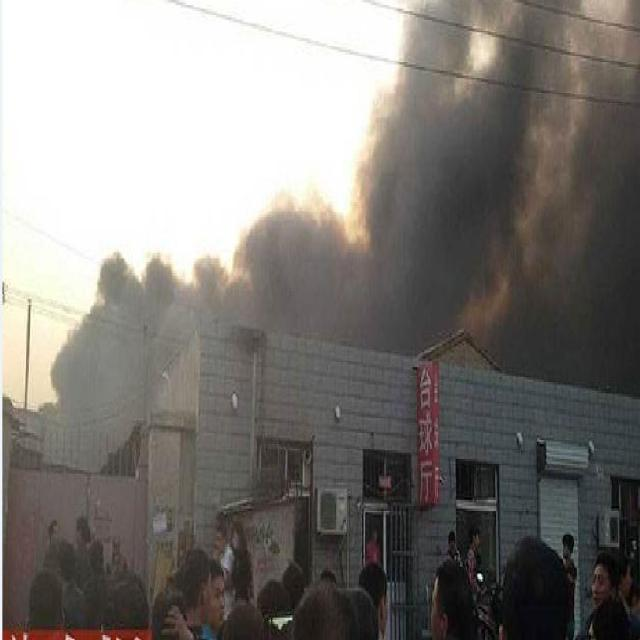Smoke: (212, 0, 488, 353), (490, 0, 640, 378), (48, 235, 212, 419)
